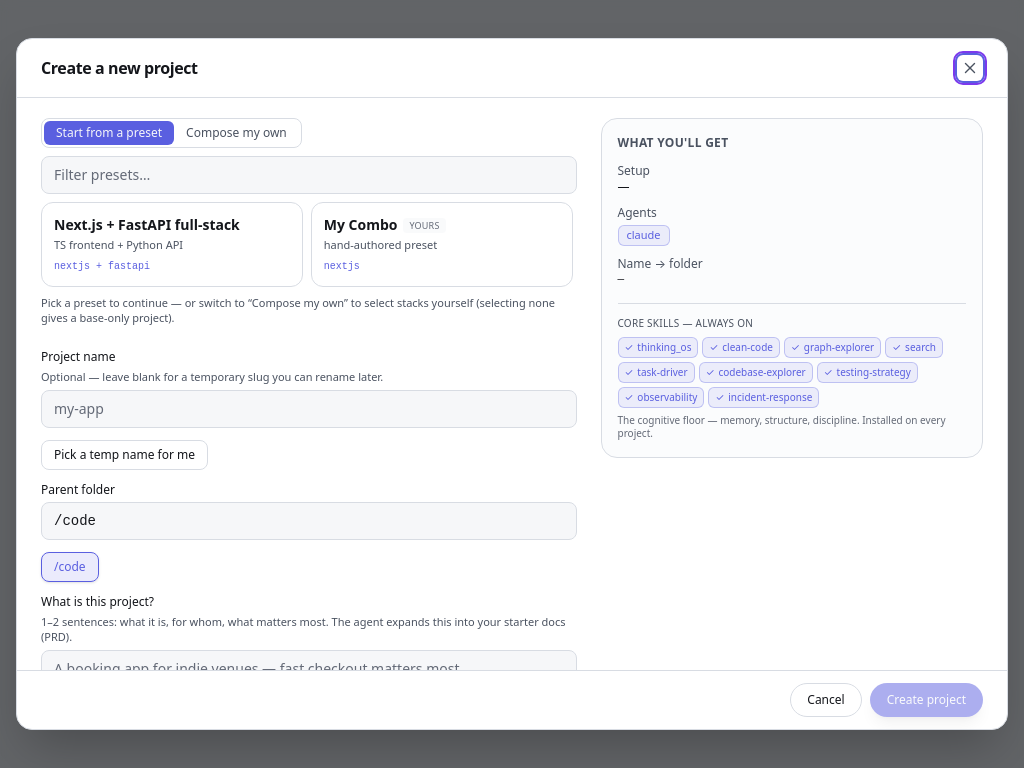
Test: Composer (TASK-419) › marks user-authored presets with a badge and hints until a preset is picked
This screenshot has width=1024, height=768.
Check: the text "Pick a preset to continue" is shown, box [41,294,555,325]
Check: the text "yours" is shown, box [403,218,446,233]
Click the text "Next.js + FastAPI full-stack": (147, 225) [54,215,240,235]
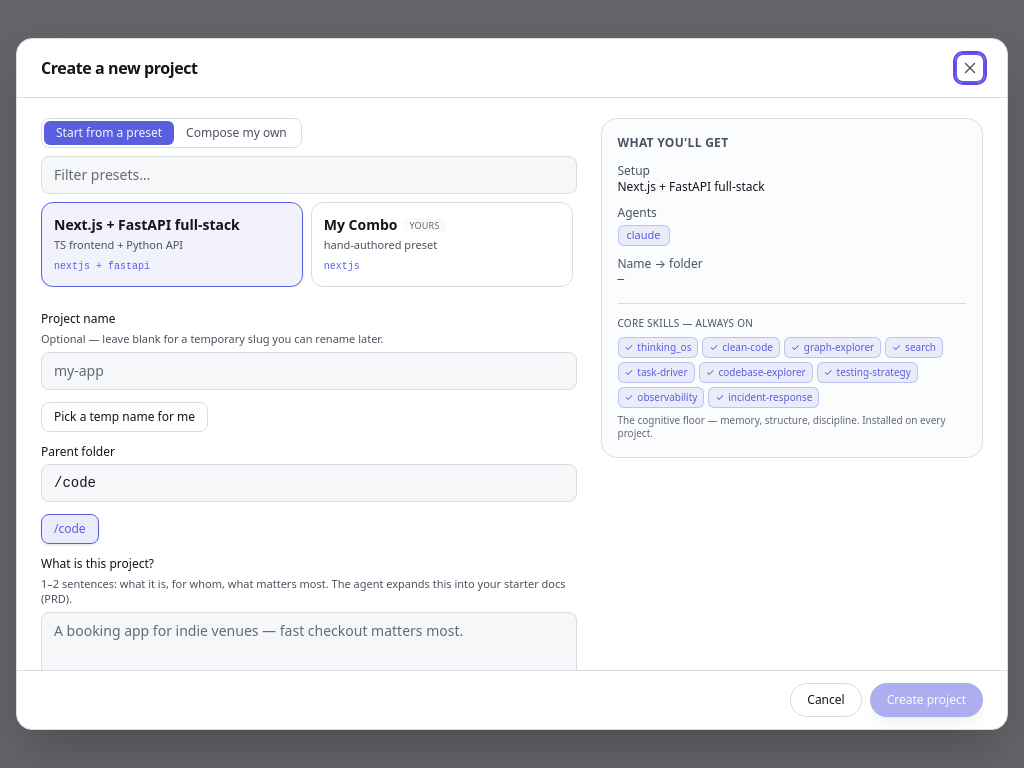
Check: the text "Pick a preset to continue" is gone
